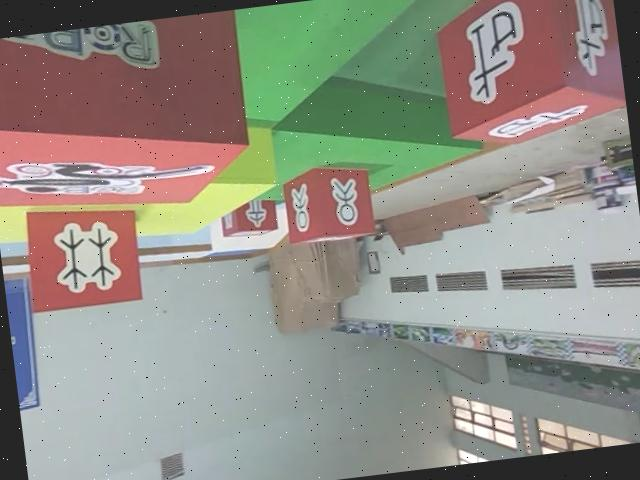R1: (0, 8, 261, 229)
R2 Fake: (217, 192, 279, 244)
R2 Real: (428, 0, 629, 153), (17, 196, 143, 317), (276, 158, 376, 247)
